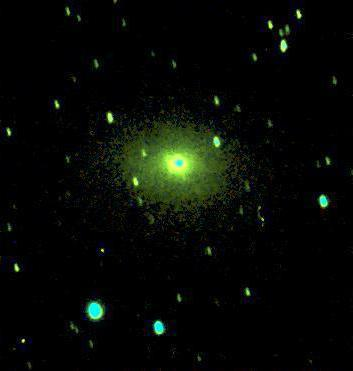star: (172, 168, 202, 198)
